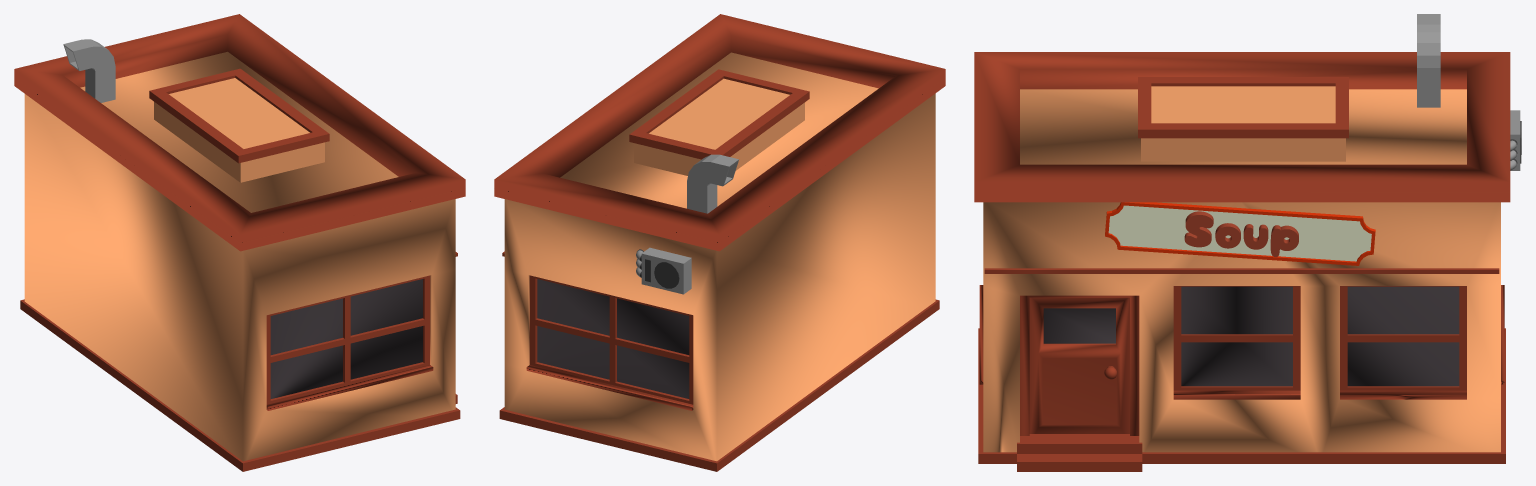
The model's file is SoupKitchen.fbx.
The picture shows the model from 3 angles, left to right: view 1: azimuth 30°, elevation 25°; view 2: azimuth 150°, elevation 25°; view 3: azimuth 270°, elevation 25°; orthographic projection. The views are drawn at different scales.
Parts seen in each view (by area): view 1: RestaurantBuilding; view 2: RestaurantBuilding; view 3: RestaurantBuilding, Text.
Boxes of the visible parts, x1,y1,x2,y2 form: RestaurantBuilding: (14, 14, 465, 471); RestaurantBuilding: (494, 14, 945, 471); RestaurantBuilding: (974, 14, 1521, 471); Text: (1184, 211, 1298, 256).
Size of the model in its own units: 222 by 253 by 377.
